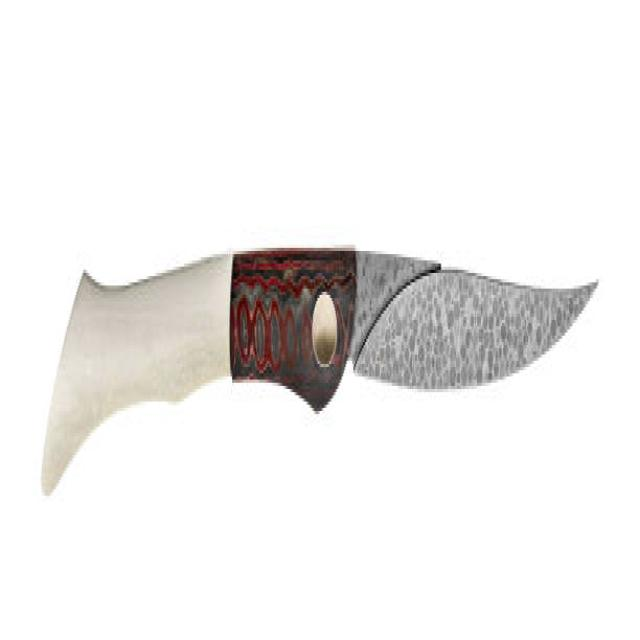knife: (32, 229, 607, 500)
